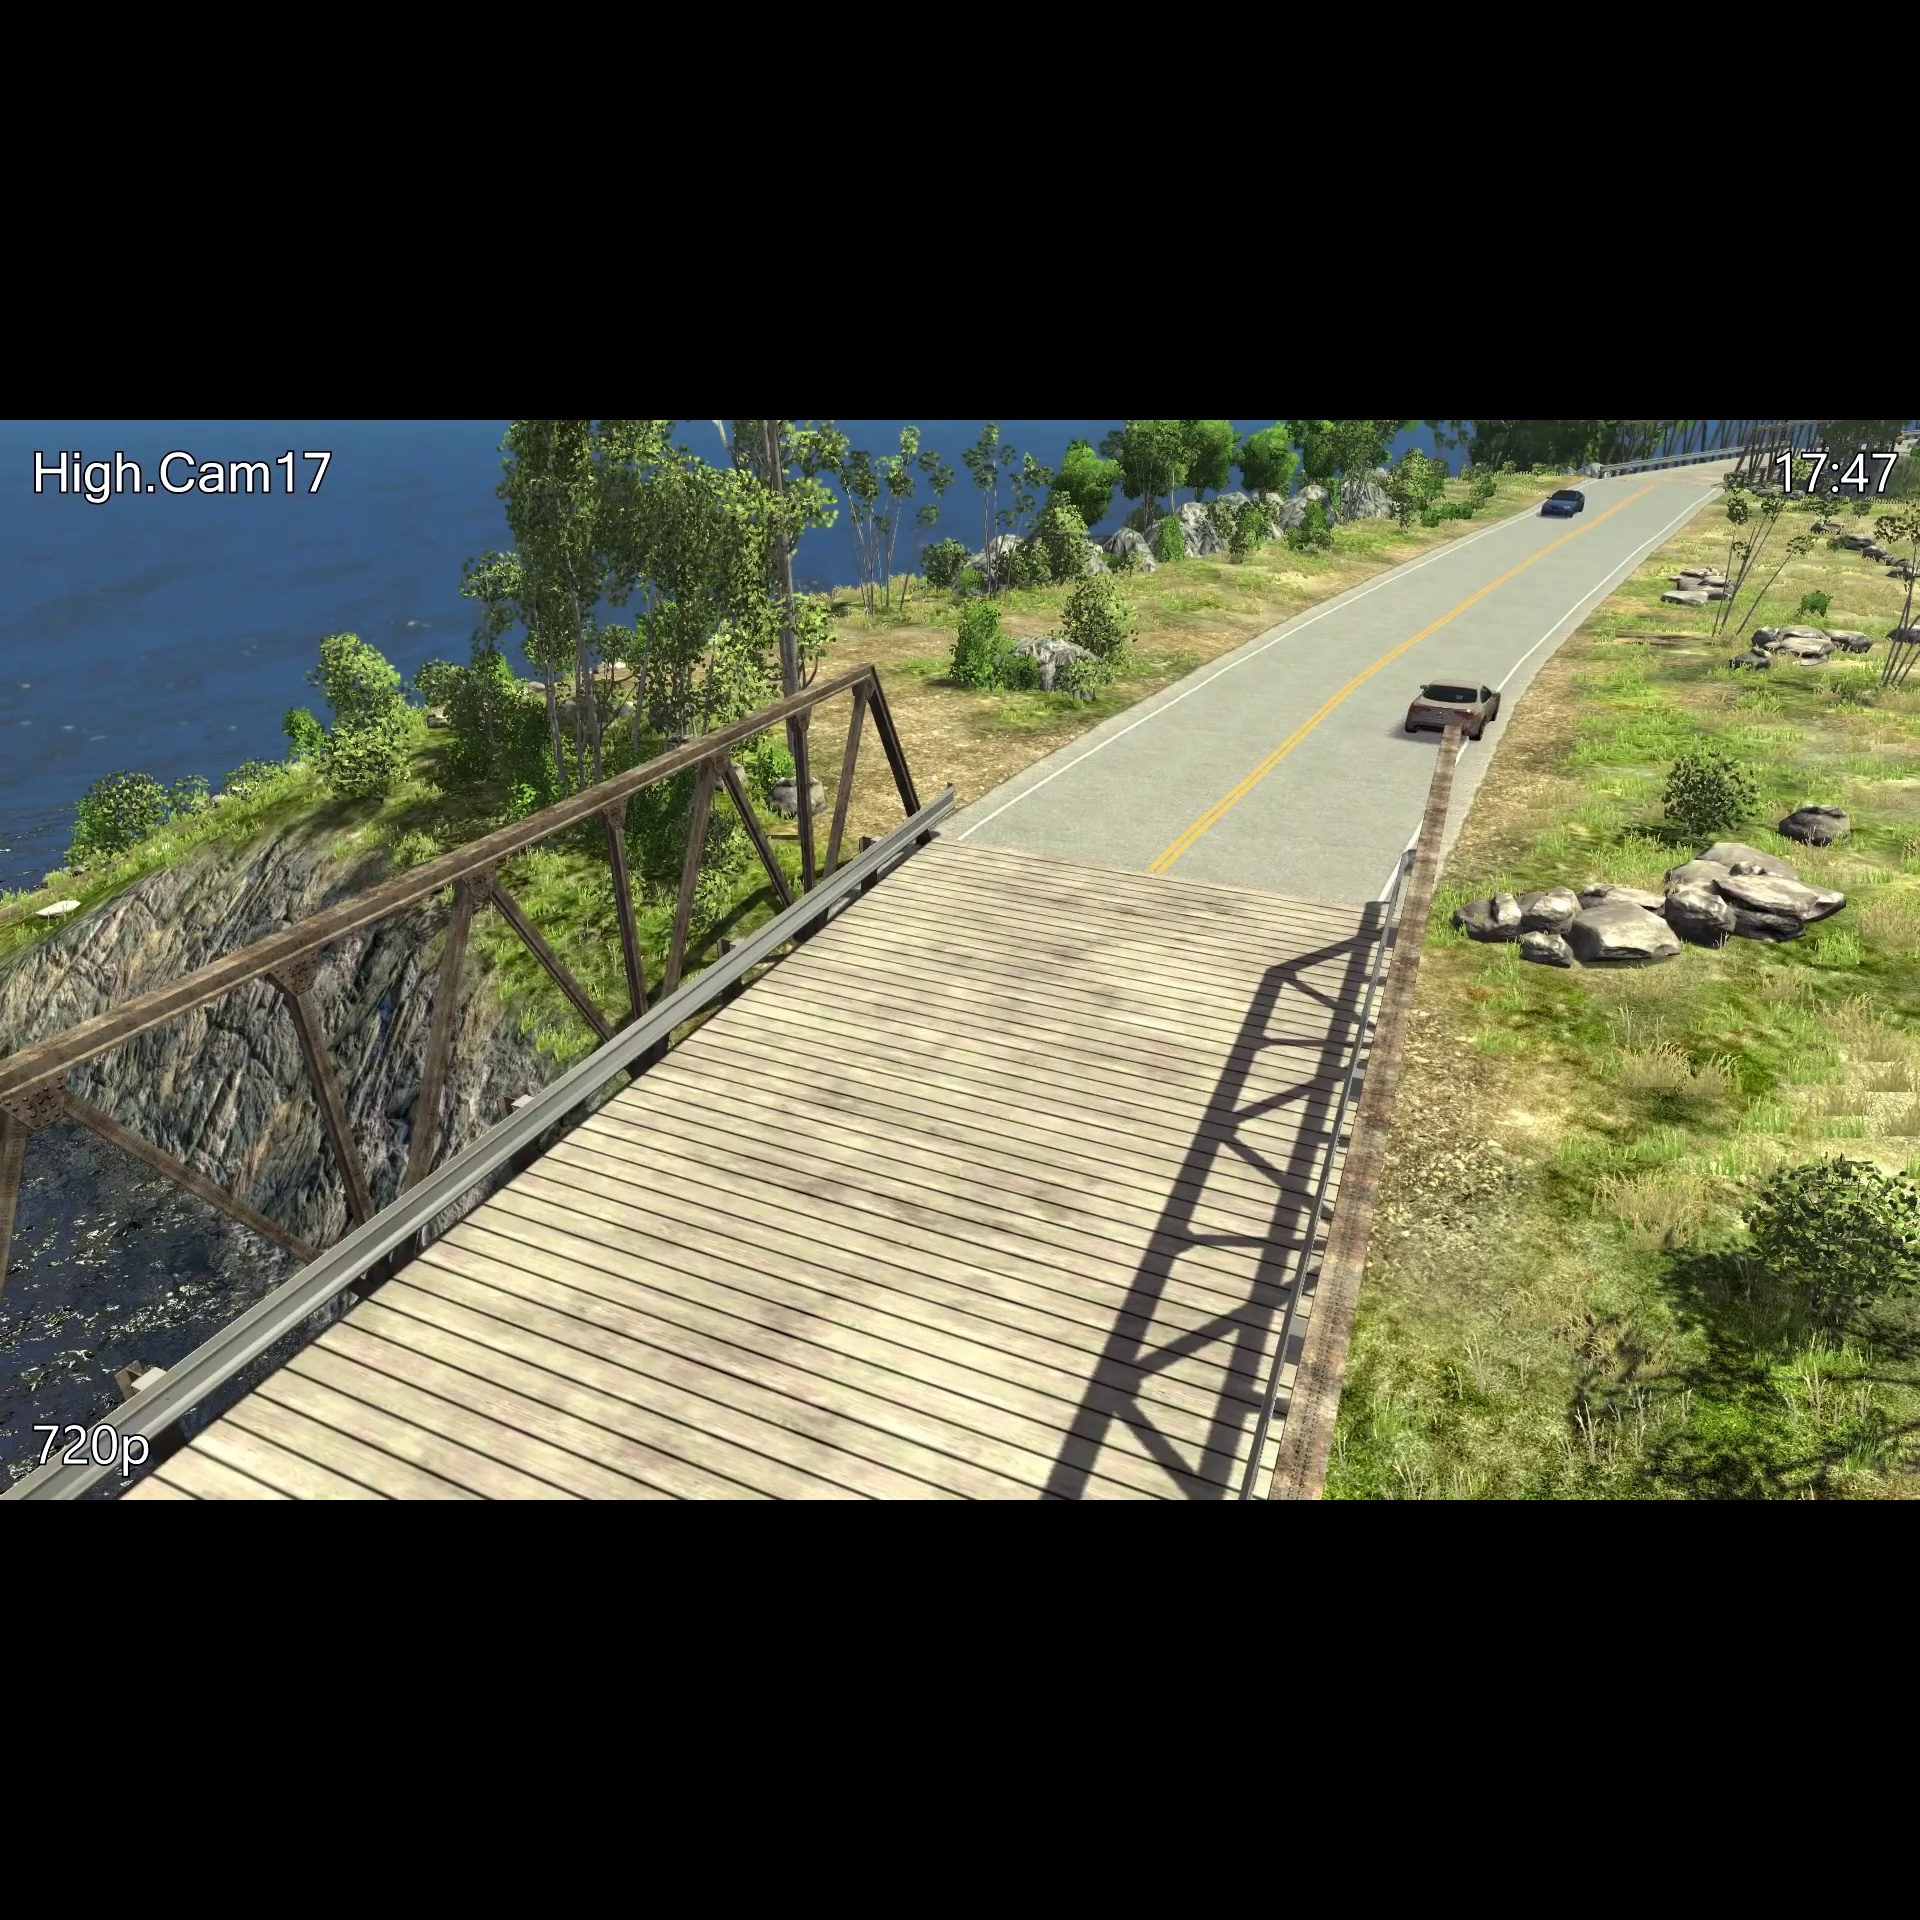vehicle: (1396, 672, 1503, 747), (1537, 484, 1591, 526)
